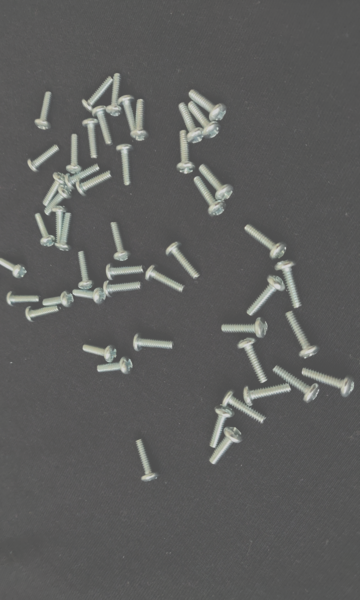shortscrew: (274, 365, 319, 404), (222, 388, 267, 425), (301, 368, 356, 398), (247, 275, 286, 317), (245, 224, 288, 261), (286, 311, 319, 359), (209, 426, 244, 467), (238, 337, 268, 384), (194, 176, 228, 217), (199, 164, 235, 202), (166, 242, 201, 280), (189, 89, 229, 122), (275, 259, 301, 309), (188, 102, 222, 139), (243, 383, 292, 408), (146, 265, 187, 294), (81, 77, 114, 113), (209, 404, 235, 449), (134, 438, 159, 483), (179, 103, 204, 143), (109, 222, 133, 262), (76, 171, 113, 196), (28, 145, 61, 173), (92, 106, 114, 147), (66, 164, 102, 189), (222, 318, 269, 337), (177, 130, 196, 174), (45, 185, 72, 215), (35, 92, 55, 131), (134, 334, 174, 353), (34, 212, 55, 248), (116, 144, 134, 186), (107, 73, 124, 117), (82, 118, 100, 159), (131, 99, 148, 141), (106, 264, 145, 282), (44, 173, 65, 206), (104, 280, 142, 298), (67, 134, 83, 175), (83, 344, 117, 363), (73, 286, 107, 305), (25, 305, 60, 323), (97, 357, 134, 374), (78, 251, 94, 289), (43, 290, 74, 309), (0, 258, 28, 279), (7, 291, 41, 308), (118, 96, 135, 130)
